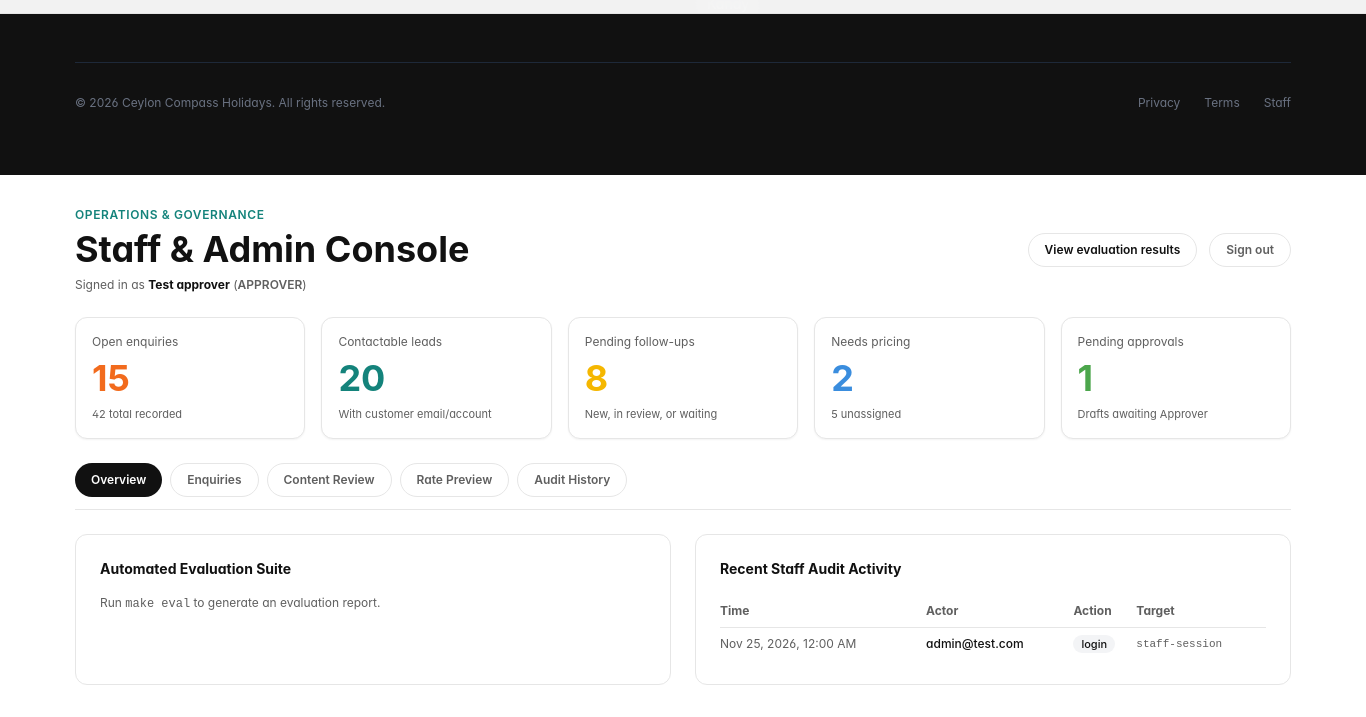
Test case: StaffConsole Content Review & Approver Publish › approver can review and publish drafts
(page scrolled)
Step 1. Click the button "Content Review" → [329, 480], box top-left (266, 463), bottom-right (392, 497)
(page scrolled)
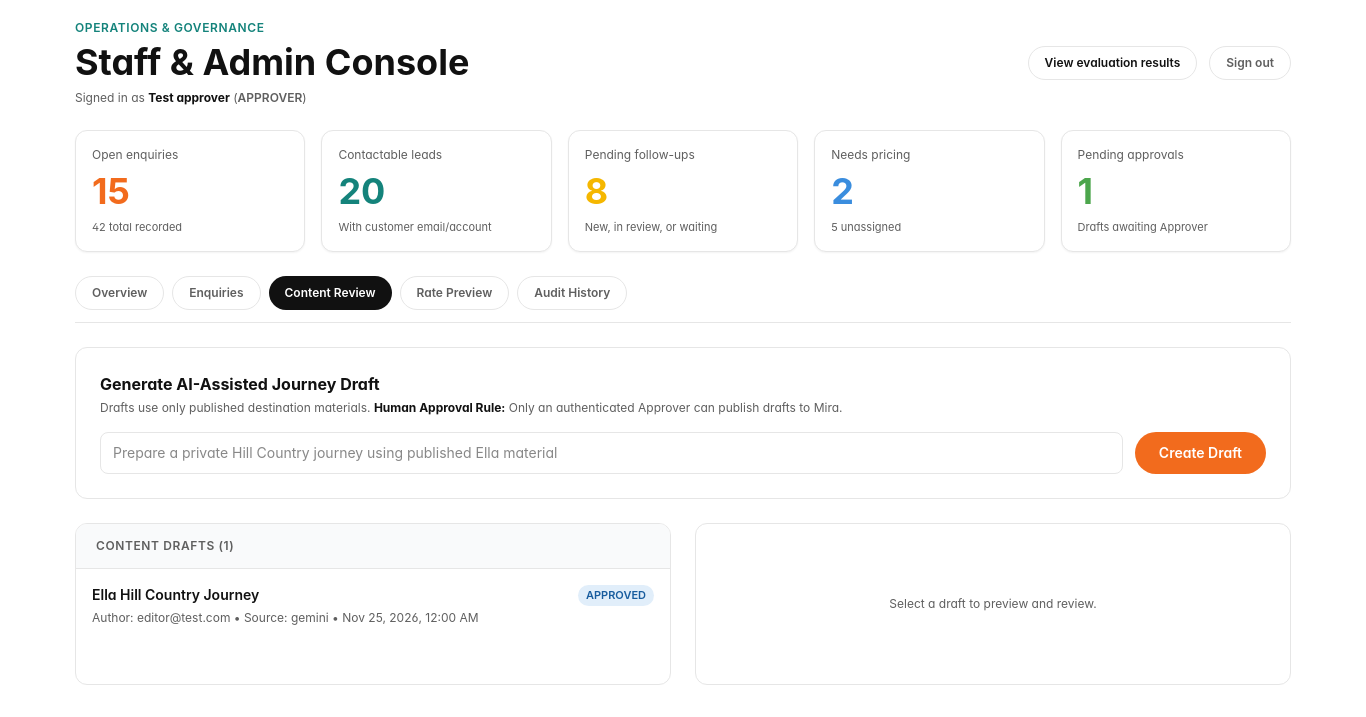
Check: the text "Ella Hill Country Journey" is shown
Step 2. Click the text "Ella Hill Country Journey" → [176, 595], box top-left (92, 585), bottom-right (259, 605)
(page scrolled)
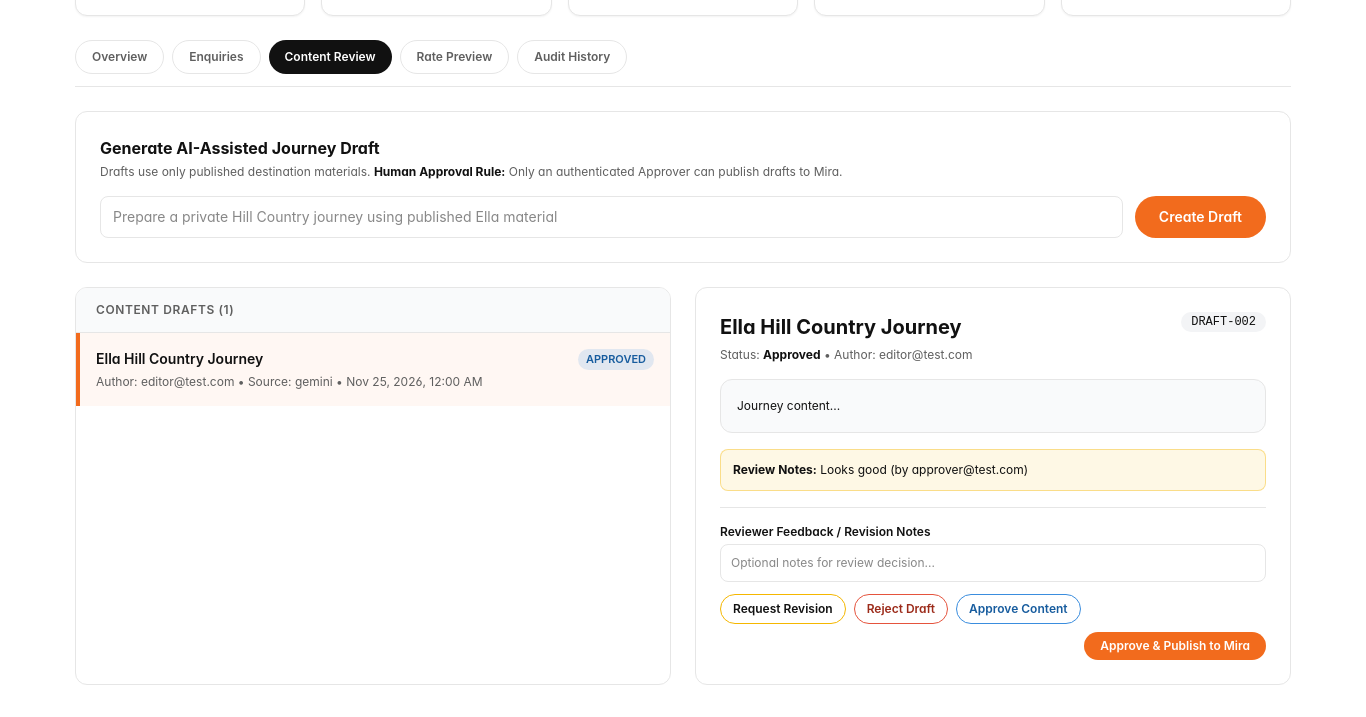
Check: the button "Approve & Publish to Mira" is shown, box top-left (1084, 632), bottom-right (1266, 660)
